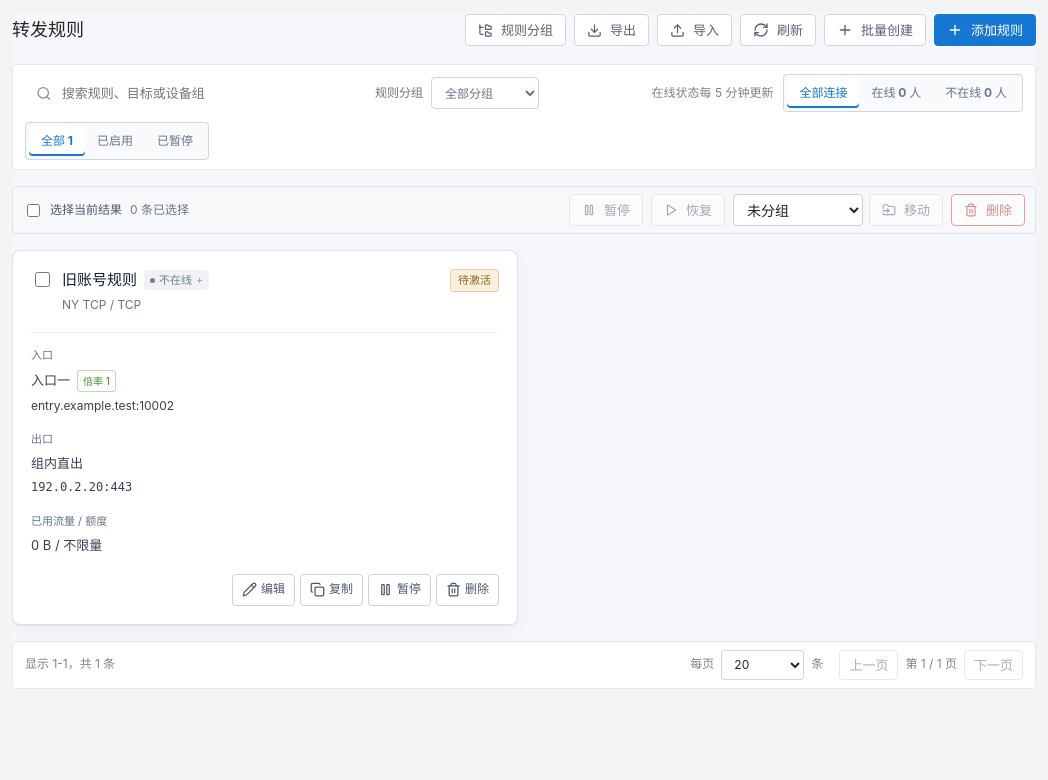
Scenario: ForwardRulesPage › hides old rules after a export request returns 401
This screenshot has width=1048, height=780.
Click the button "导出": (611, 30) [574, 14, 649, 46]
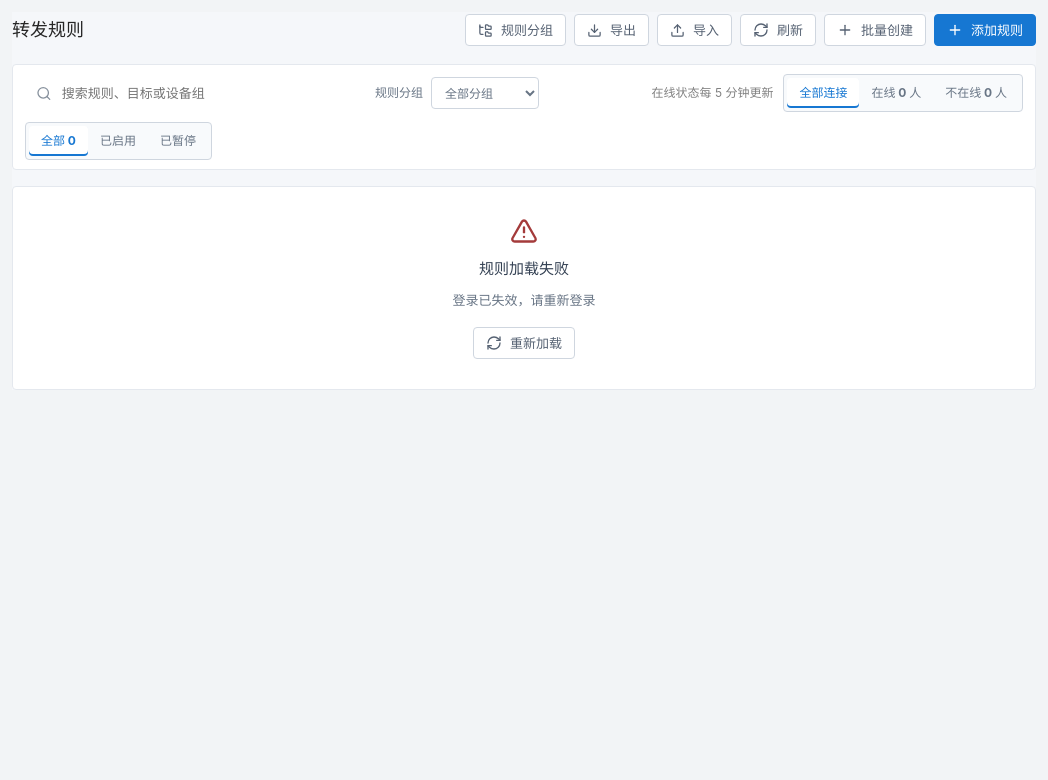
Result: the text "登录已失效" is shown at [452, 292, 596, 308]
Result: the text "旧账号规则" is gone
